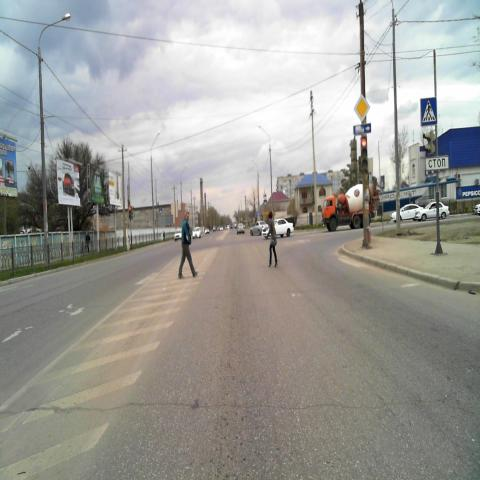6_15_2: (353, 124, 371, 136)
